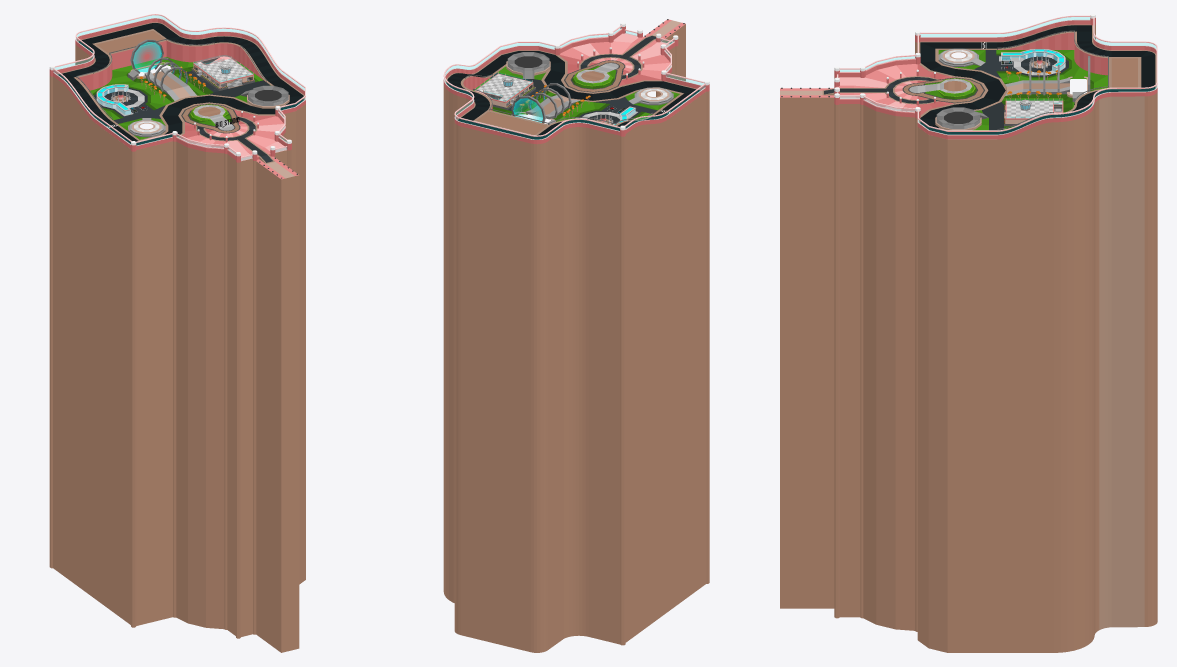
File: ground.glb
3 renders of one model, left to right at view 1: azimuth 30°, elevation 25°; view 2: azimuth 150°, elevation 25°; view 3: azimuth 270°, elevation 25°, orthographic. The views are drawn at different scales.
Parts seen in each view (by area): view 1: ground, wall_glass, switch_blue_light; view 2: ground, wall_glass; view 3: ground, wall_glass.
Part boxes in pixels (bbox=[...]): ground: bbox=[49, 14, 305, 652]; wall_glass: bbox=[54, 16, 304, 160]; switch_blue_light: bbox=[133, 42, 161, 72]; ground: bbox=[443, 19, 709, 652]; wall_glass: bbox=[445, 27, 704, 139]; ground: bbox=[780, 14, 1157, 652]; wall_glass: bbox=[840, 17, 1156, 134].
Bounding box in the file's own units: 260 × 638 × 405.
Materials: 1 (1 with a texture image).
